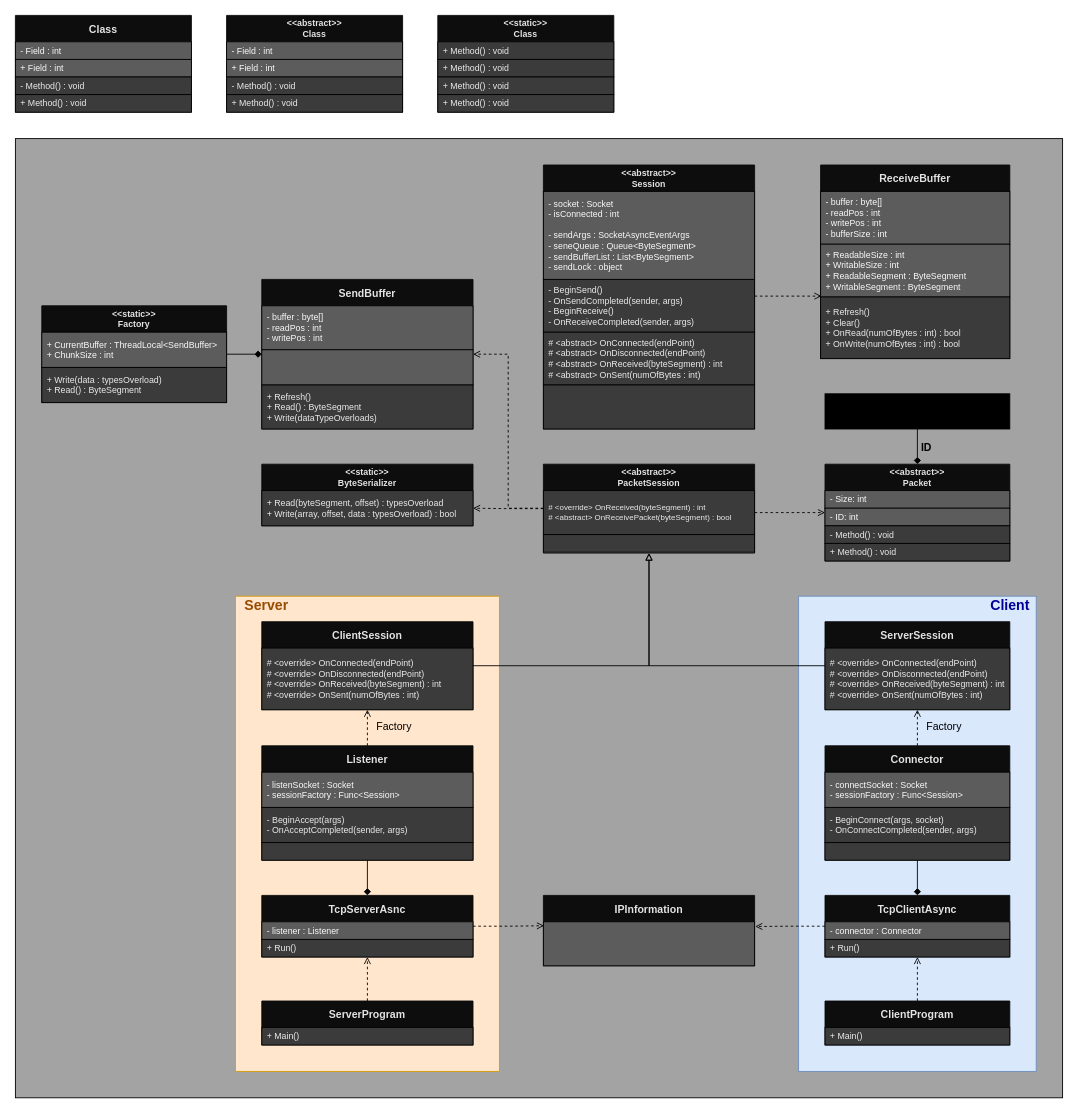
Some shapes in this 1078 by 1113 pixel diagram are drawn without their labels. Here are the shapes that lost their labels. From the top down, the centre of each, then its label:
(x=367, y=367): + ReadableSize : int + WritableSize : int
(x=649, y=406): + Init(socket) + Disconnect() + Send(byteSegment)
(x=917, y=411): <<enum>> PacketType
(x=649, y=543): + SendPacket(packet)
(x=367, y=851): + Init(endPoint, sessionFactory)
(x=917, y=851): + Connect(endPoint, sessionFactory)
(x=649, y=943): + Address : IPAdreess + EndPoint : IPEndPoint + AddressFamily : AddressFamily
